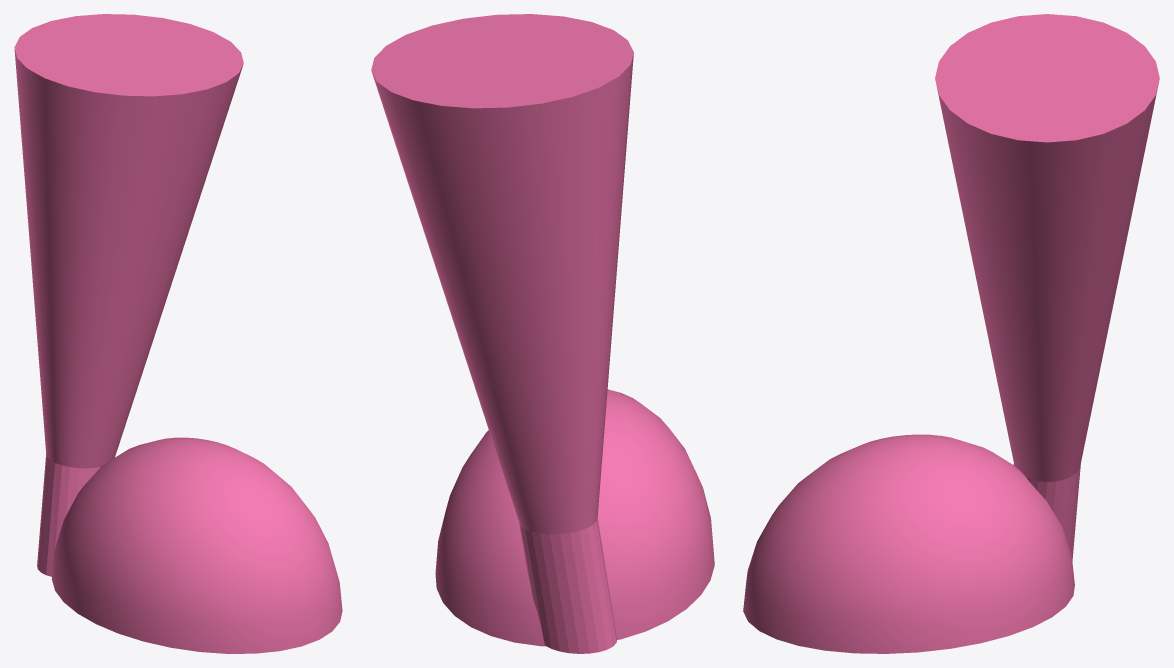
Rendered from pataI_C.obj.
3 views of the same model, side by side, from view 1: azimuth 30°, elevation 25°; view 2: azimuth 150°, elevation 25°; view 3: azimuth 270°, elevation 25° (orthographic). The views are drawn at different scales.
Visible parts, largest first — view 1: PataI; view 2: PataI; view 3: PataI.
Part boxes in pixels (left/top/right/bottom): PataI: left=14, top=14, right=342, bottom=653; PataI: left=371, top=14, right=714, bottom=653; PataI: left=743, top=14, right=1159, bottom=653.
Bounding box in the file's own units: 2.39 × 5.29 × 3.76.
